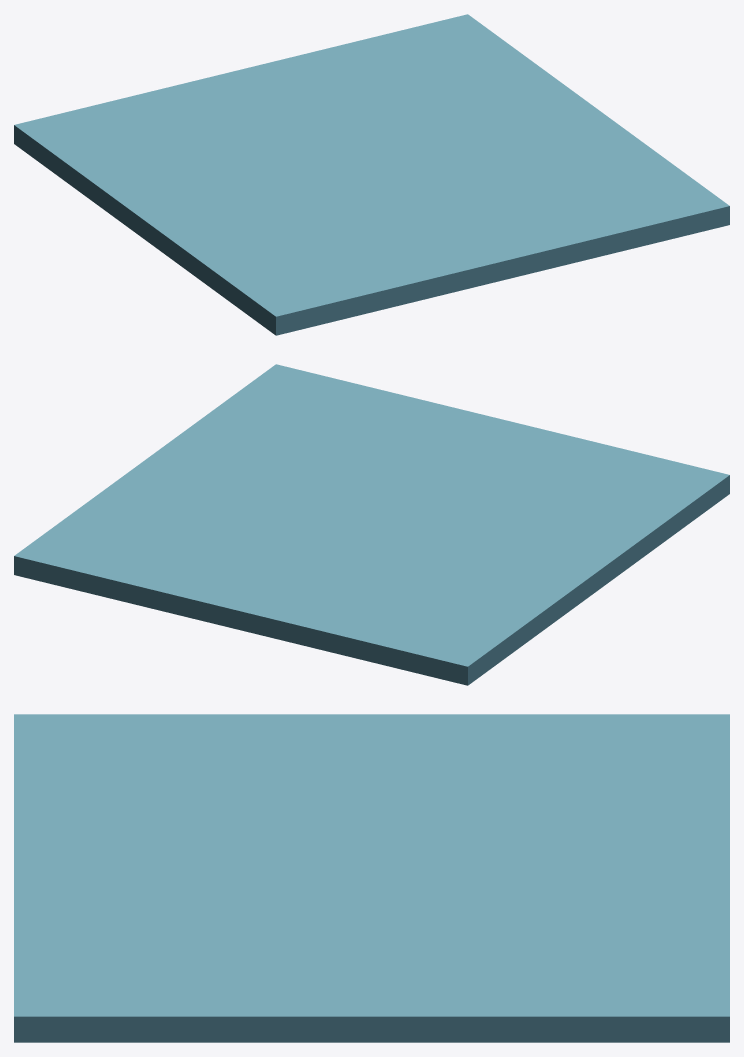
Rendered from ICE_04_ClearIceTile.glb.
3 views of the same model, one above another, from view 1: azimuth 30°, elevation 25°; view 2: azimuth 150°, elevation 25°; view 3: azimuth 270°, elevation 25° (orthographic). The views are drawn at different scales.
Visible parts, largest first — view 1: ICE_04_ClearIceTile; view 2: ICE_04_ClearIceTile; view 3: ICE_04_ClearIceTile.
Part boxes in pixels (x1=…): ICE_04_ClearIceTile: x1=14, y1=14, x2=729, y2=335; ICE_04_ClearIceTile: x1=14, y1=364, x2=729, y2=685; ICE_04_ClearIceTile: x1=14, y1=714, x2=729, y2=1042.
Size of the model in its own units: 4 by 0.16 by 4.
